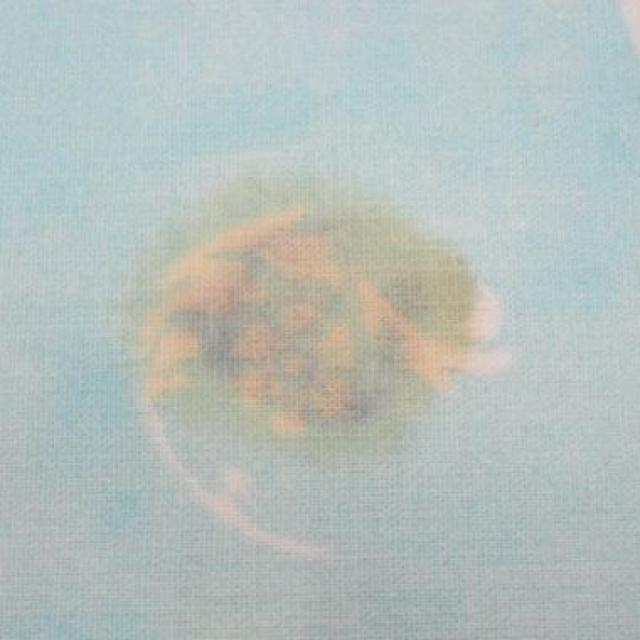Hole: (118, 180, 504, 474)
